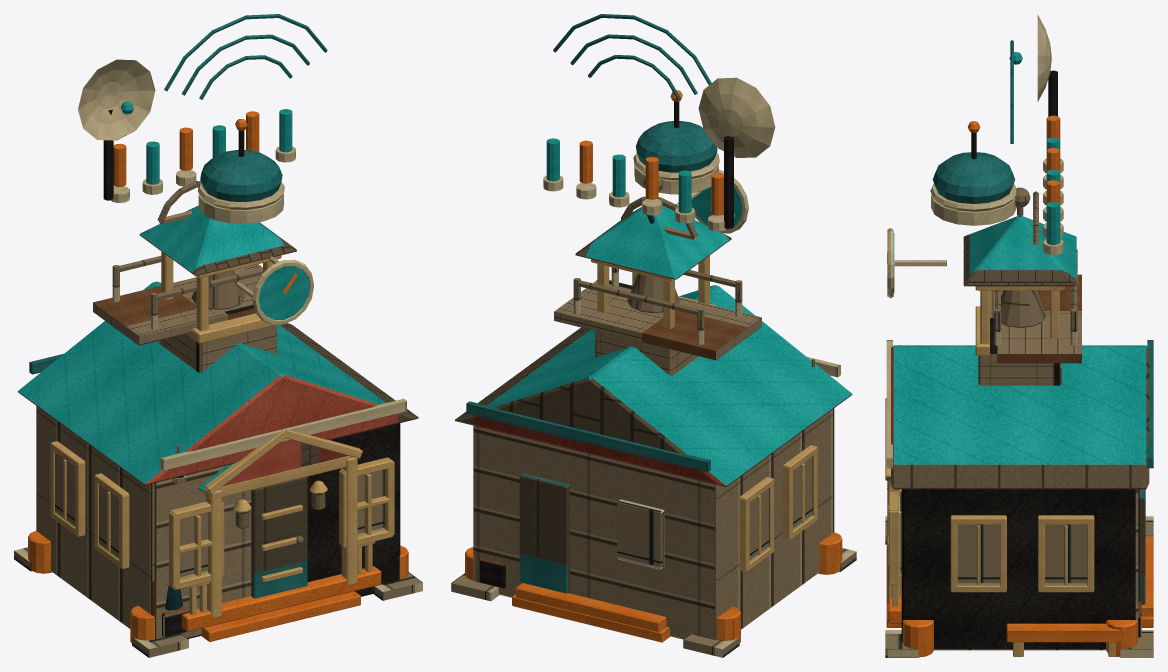
File: schoolhouse.e7.glb
3 views of the same model, side by side, from view 1: azimuth 30°, elevation 25°; view 2: azimuth 150°, elevation 25°; view 3: azimuth 270°, elevation 25° (orthographic).
Parts seen in each view (by area): view 1: SignalWorksE7; view 2: SignalWorksE7; view 3: SignalWorksE7.
Boxes of the visible parts, x1,y1,x2,y2 form: SignalWorksE7: (14,14,422,657); SignalWorksE7: (451,14,856,657); SignalWorksE7: (885,14,1153,657).
Bounding box in the file's own units: 3.96 × 7.69 × 3.38.
Materials: 1 (1 with a texture image).
